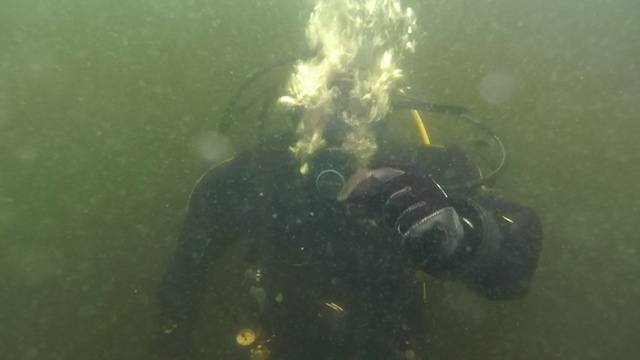Diver: (139, 16, 582, 353)
Hand: (327, 138, 488, 277)
